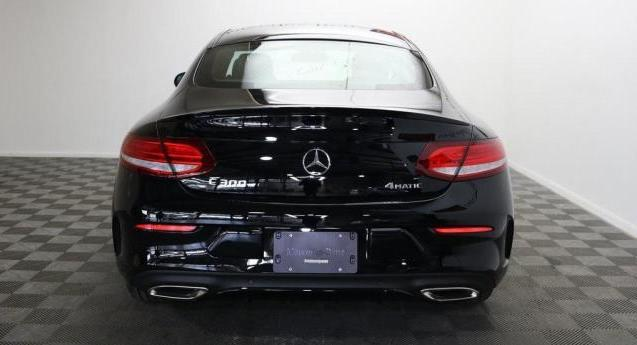C300Coupe: (107, 18, 523, 319)
